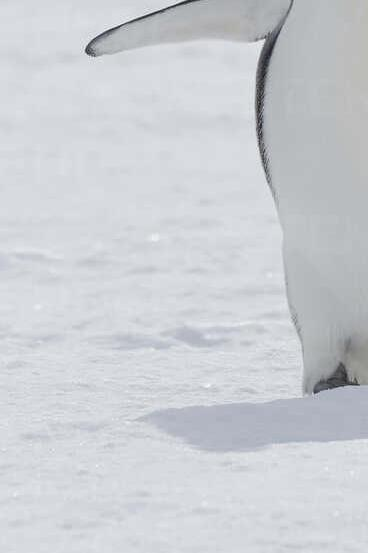Emperor Penguin: (110, 0, 368, 424)
